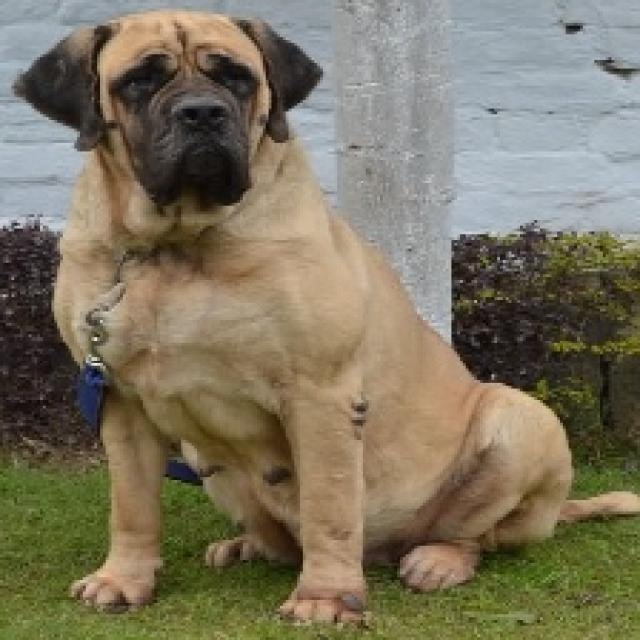cho khoe manh: (15, 20, 615, 626)
